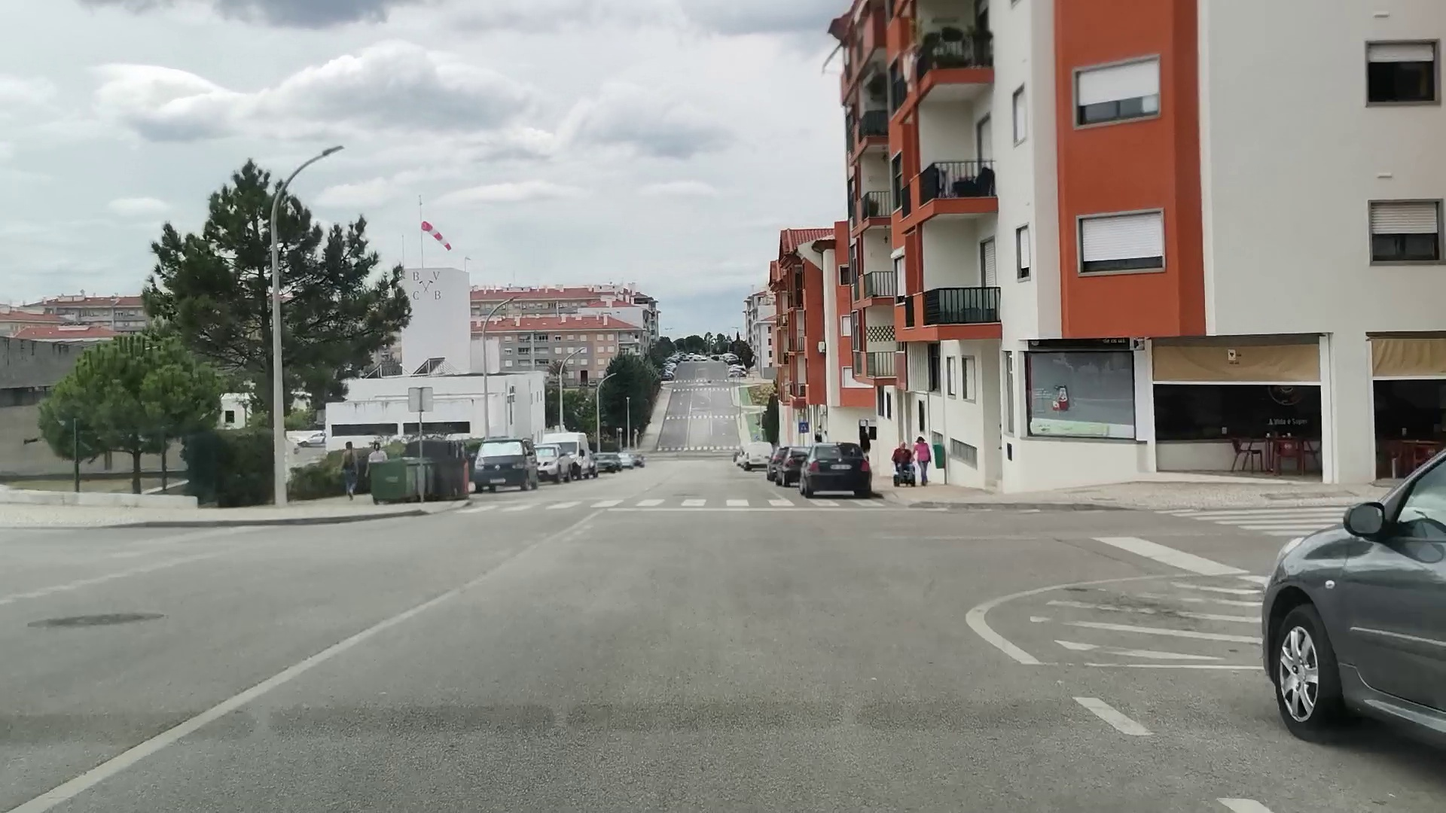Stairs: (446, 497, 890, 513)
